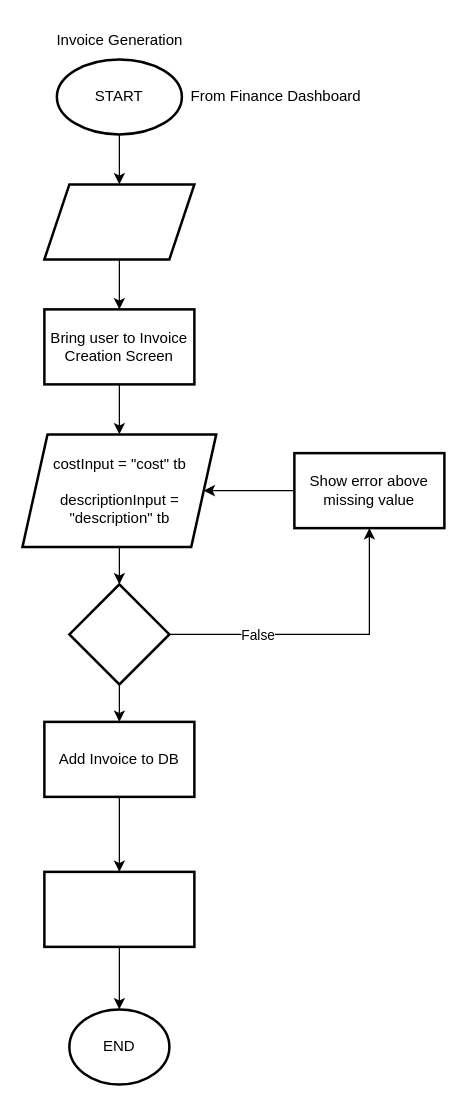
Some shapes in this 468 by 1106 pixel diagram are drawn without their labels. Here are the shapes that lost their labels. From the top down, the centre of each, then its label:
point 118,221: Click "Add Invoice"
point 119,633: Both values filled in?
point 118,909: Redirect to Finance Dashboard
